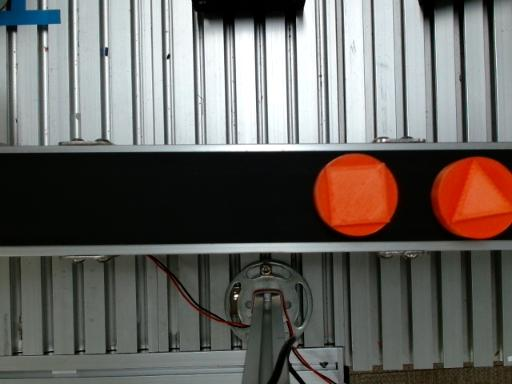Not_Square: (448, 157, 511, 227)
Orange_Waper: (314, 154, 398, 236), (430, 156, 511, 238)
Square: (325, 164, 390, 226)
